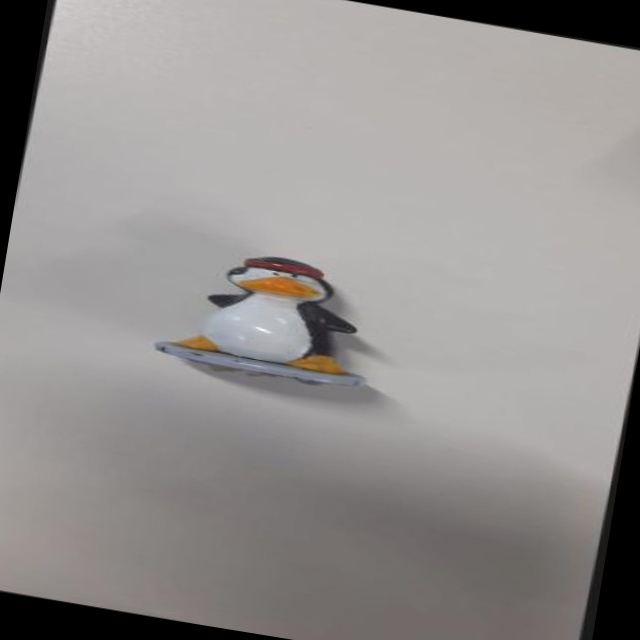Penguin: (126, 196, 420, 416)
